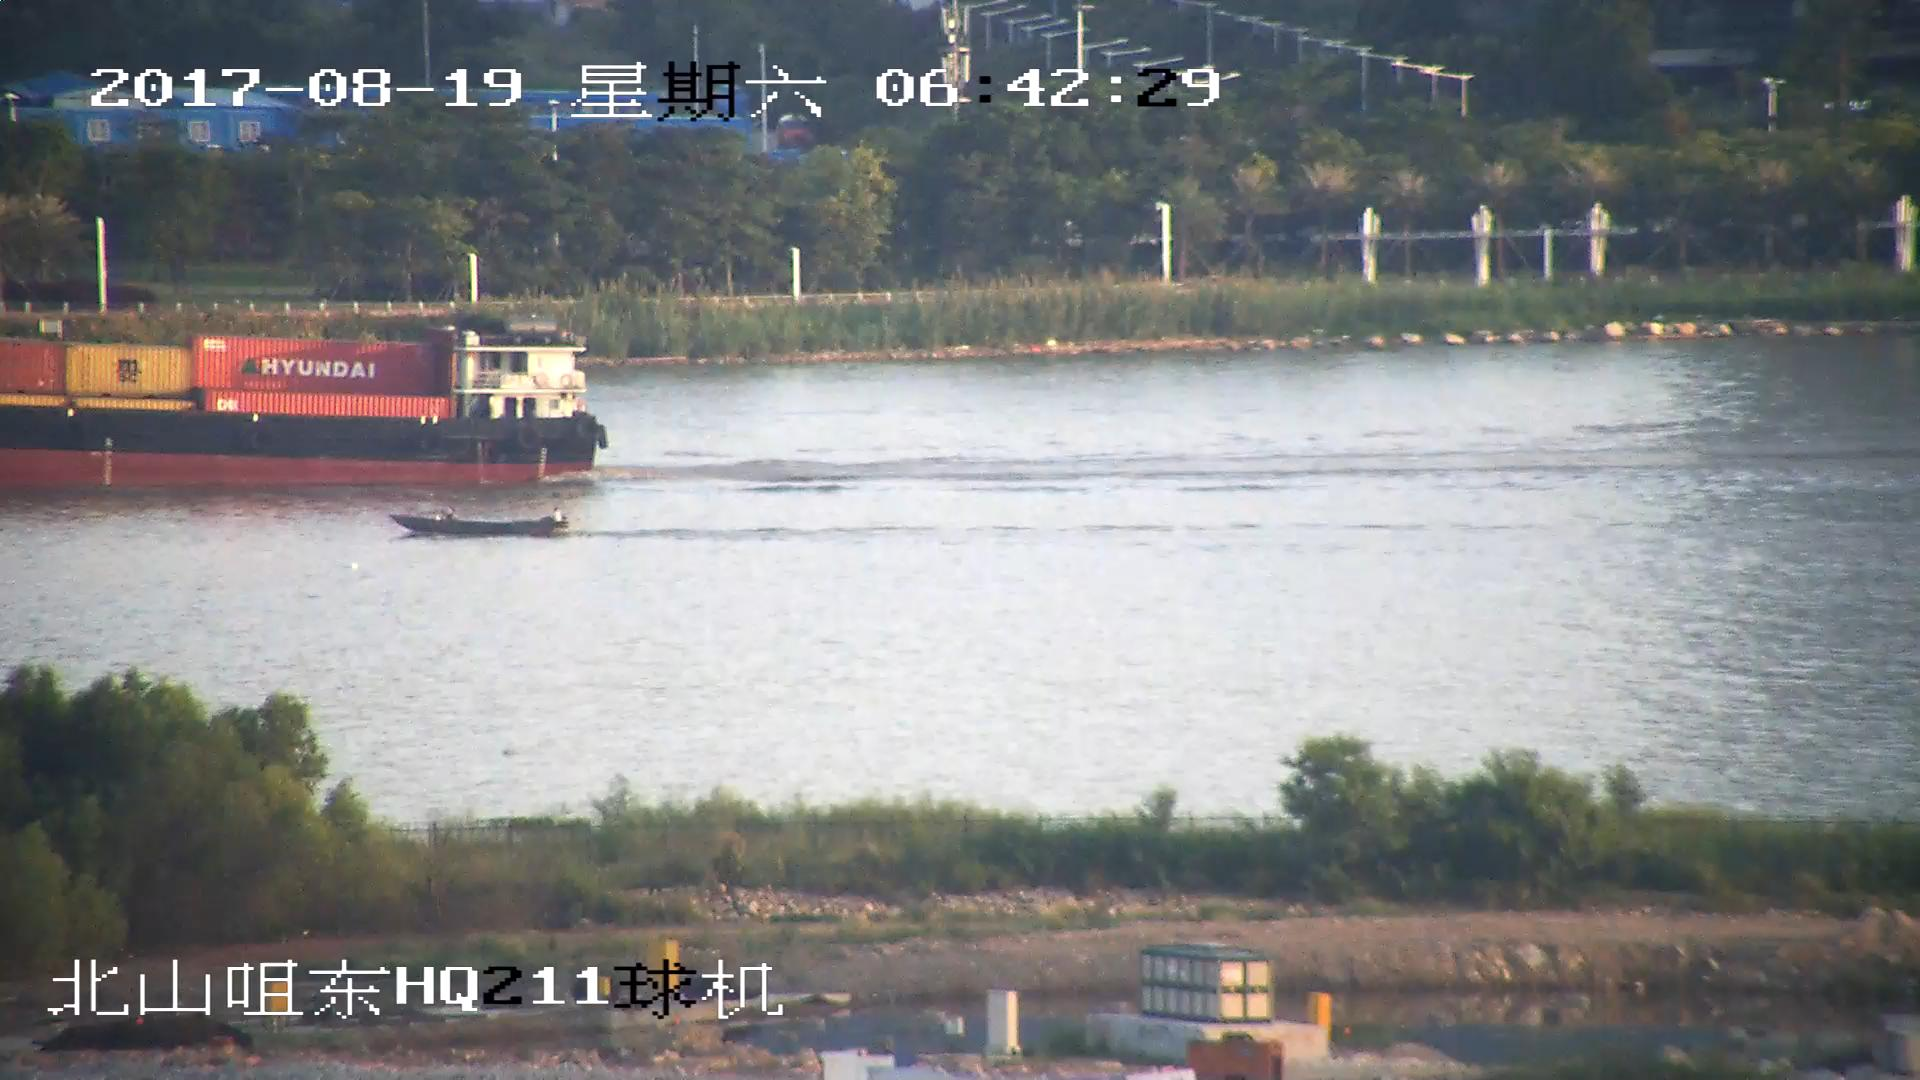container ship: (1, 325, 603, 498)
fishing boat: (392, 504, 567, 545)
